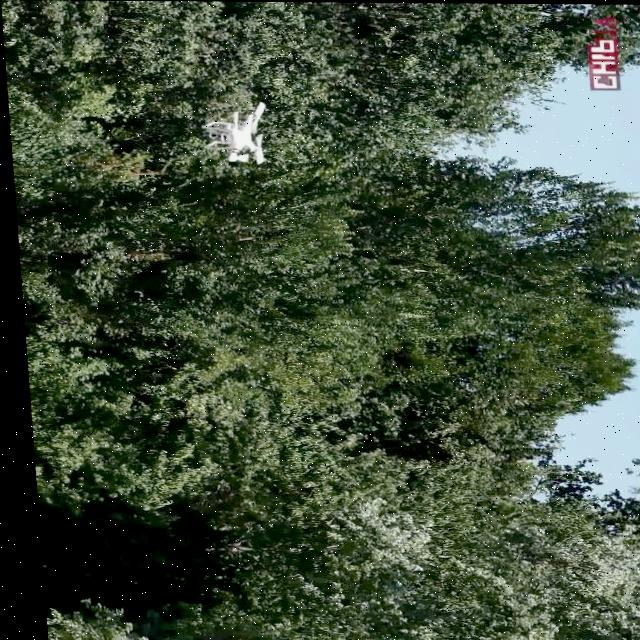drone: (199, 99, 270, 164)
